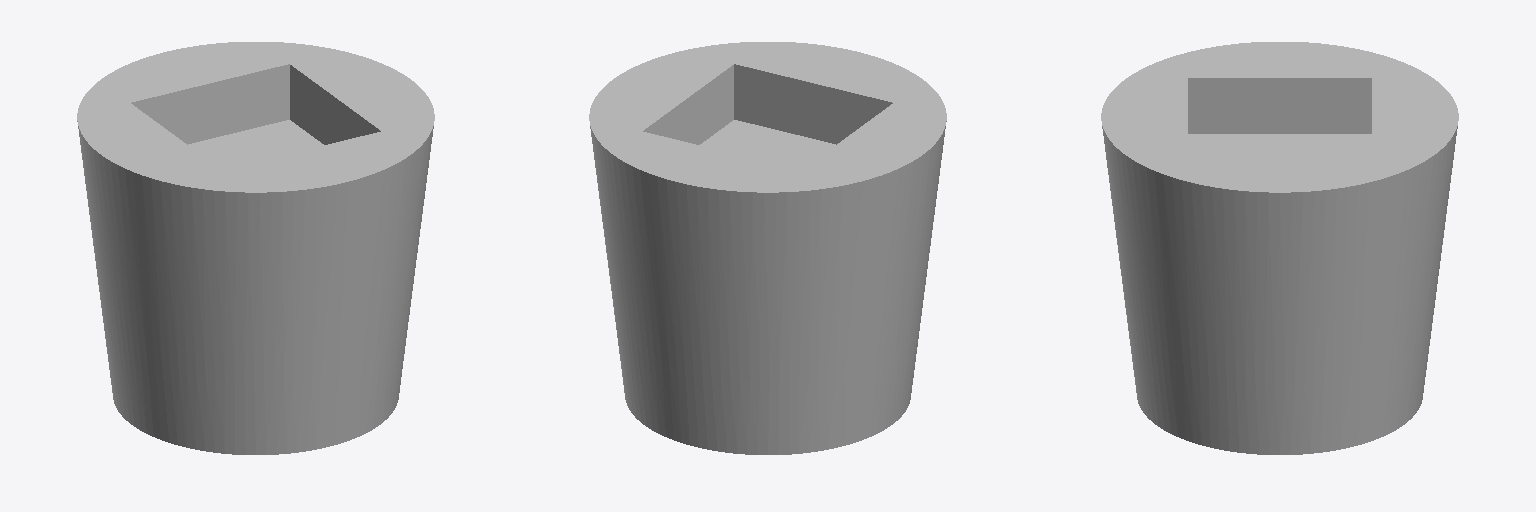
Rendered from Пробка.obj.
3 renders of one model, left to right at view 1: azimuth 30°, elevation 25°; view 2: azimuth 150°, elevation 25°; view 3: azimuth 270°, elevation 25°, orthographic.
Parts seen in each view (by area): view 1: Твердое тело1; view 2: Твердое тело1; view 3: Твердое тело1.
Boxes of the visible parts, x1,y1,x2,y2 form: Твердое тело1: [77, 42, 434, 454]; Твердое тело1: [589, 42, 946, 454]; Твердое тело1: [1101, 42, 1458, 454].
Size of the model in its own units: 17.5 by 15 by 17.5.